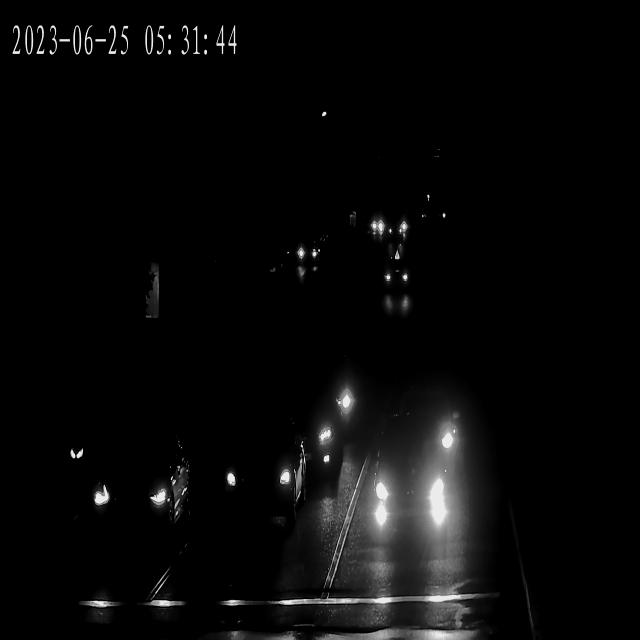Car: (85, 432, 189, 572), (368, 444, 452, 565), (227, 423, 305, 532), (394, 389, 470, 483), (286, 398, 342, 496), (302, 362, 366, 432), (384, 262, 412, 301), (294, 239, 318, 277), (366, 210, 388, 237), (396, 213, 410, 236)
